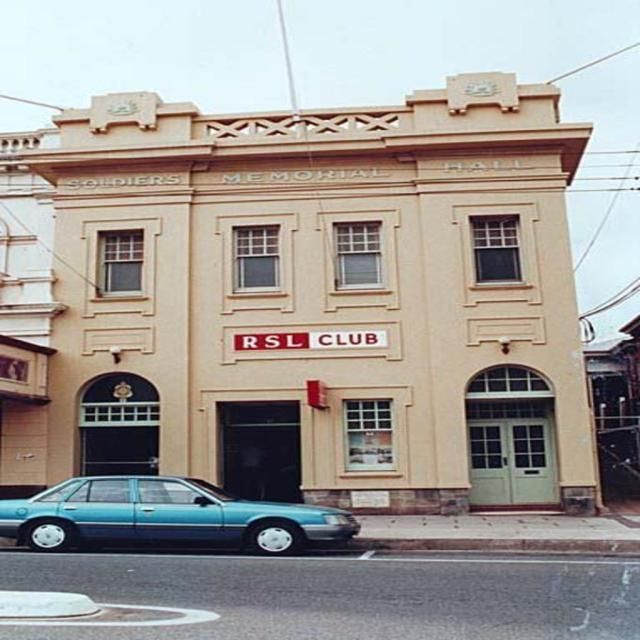door: (456, 364, 572, 515), (68, 368, 165, 476), (215, 396, 309, 504)
